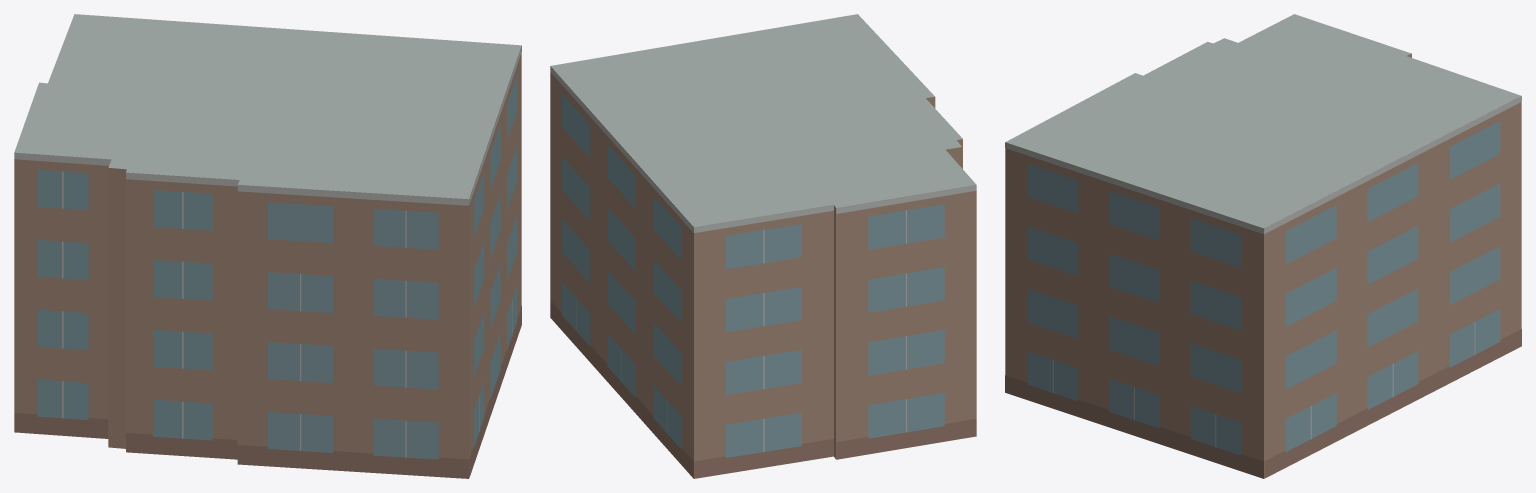
File: survey-upis-32524213.glb
3 views of the same model, side by side, from view 1: azimuth 30°, elevation 25°; view 2: azimuth 150°, elevation 25°; view 3: azimuth 270°, elevation 25° (orthographic). The views are drawn at different scales.
Visible parts, largest first — view 1: survey-upis-32524213.tmp; view 2: survey-upis-32524213.tmp; view 3: survey-upis-32524213.tmp.
Part boxes in pixels (x1,y1,x2,y2): survey-upis-32524213.tmp: (14, 14, 521, 478); survey-upis-32524213.tmp: (550, 14, 976, 478); survey-upis-32524213.tmp: (1005, 14, 1521, 478).
Bounding box in the file's own units: 18.97 × 10.33 × 19.32.
